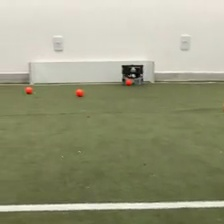ball: (75, 86, 85, 96), (24, 84, 33, 94), (124, 77, 132, 86)
goal: (25, 58, 158, 85)
robot: (119, 62, 145, 87)
